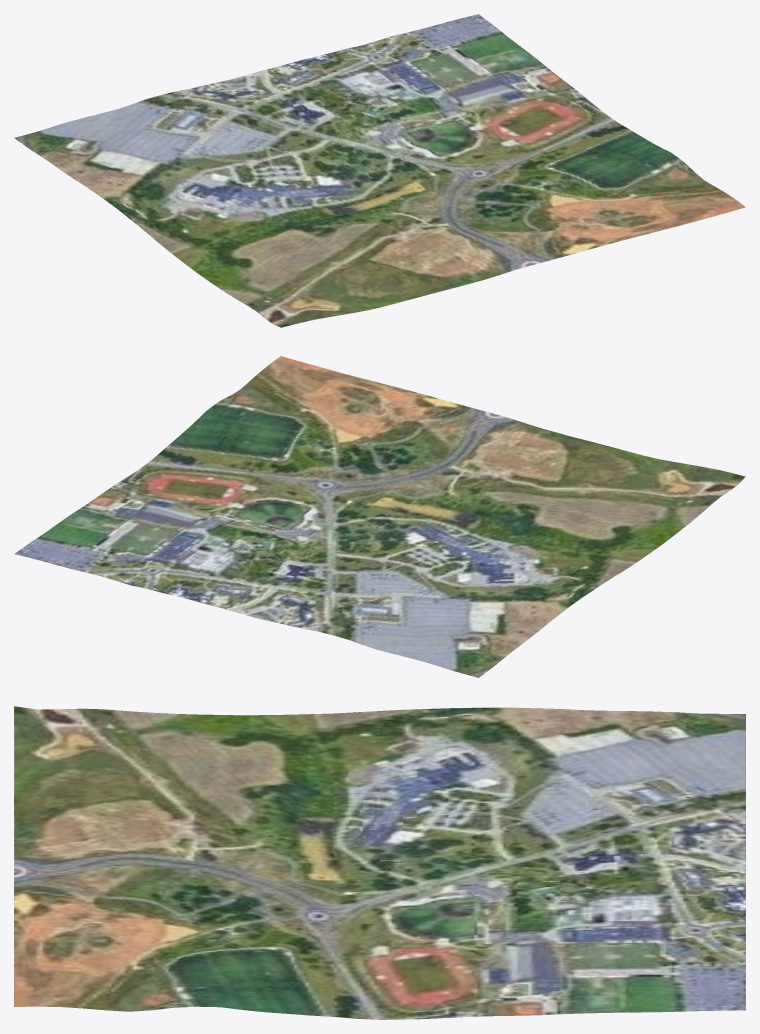
3 renders of one model, top to bottom at view 1: azimuth 30°, elevation 25°; view 2: azimuth 150°, elevation 25°; view 3: azimuth 270°, elevation 25°, orthographic. The views are drawn at different scales.
Size of the model in its own units: 975 by 28.34 by 971.
1 material, 1 textured.
